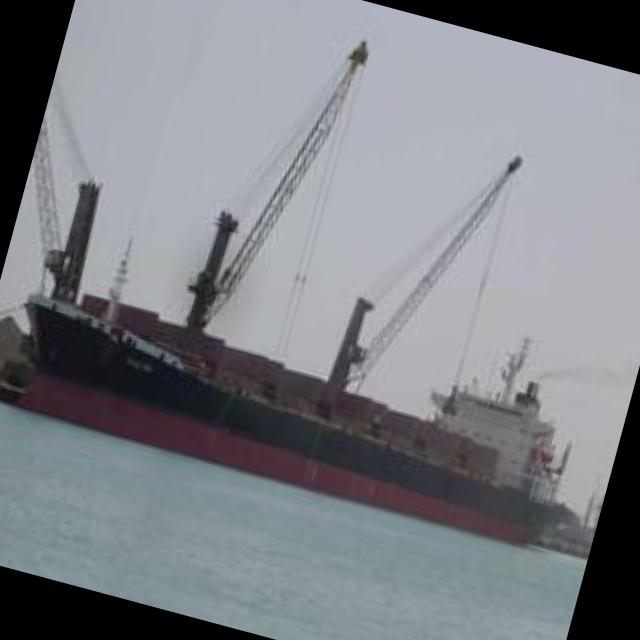boat: (0, 267, 590, 576)
